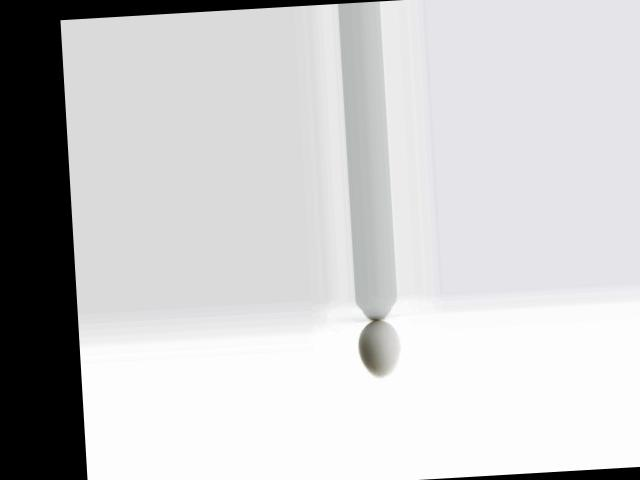egg: (357, 318, 401, 378)
